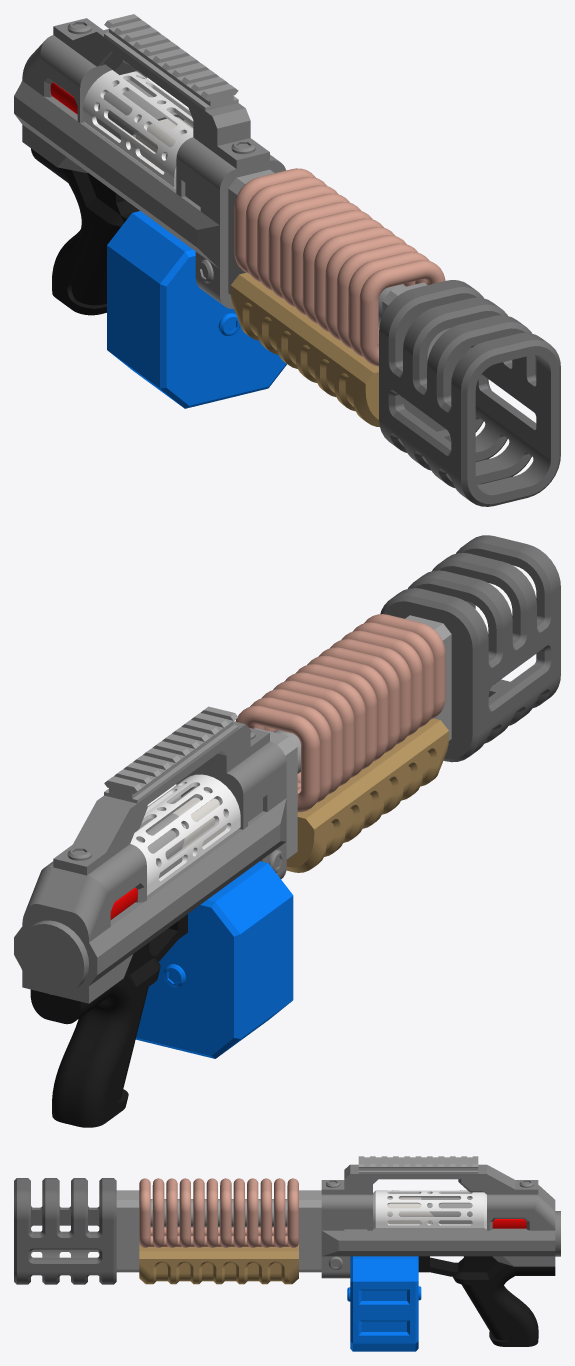
Rendered from PlasmaRifle V3.fbx.
3 renders of one model, top to bottom at view 1: azimuth 30°, elevation 25°; view 2: azimuth 150°, elevation 25°; view 3: azimuth 270°, elevation 25°, orthographic. The views are drawn at different scales.
Visible parts, largest first — view 1: Heat Sink, Coil, Magazine, Reciever, Handguard, Grip, Carry Handle, Heat Shield, Top RIS, Bolt Carrier, Aft Ring, Bolt; view 2: Reciever, Heat Sink, Coil, Magazine, Grip, Handguard, Carry Handle, Heat Shield, Top RIS, Aft Ring, Fore Ring, Bolt (+1 smaller); view 3: Reciever, Coil, Heat Sink, Magazine, Handguard, Grip, Heat Shield, Carry Handle, Top RIS, Fore Ring, Aft Ring, Barrel (+3 smaller).
Part boxes in pixels (<box>): Heat Sink: <box>379,280,560,506</box>; Coil: <box>234,168,445,366</box>; Magazine: <box>107,211,286,408</box>; Reciever: <box>14,35,285,308</box>; Handguard: <box>230,272,379,426</box>; Grip: <box>31,148,139,315</box>; Carry Handle: <box>53,18,269,168</box>; Heat Shield: <box>82,70,193,188</box>; Top RIS: <box>104,14,238,110</box>; Bolt Carrier: <box>96,80,184,139</box>; Aft Ring: <box>228,169,274,294</box>; Bolt: <box>136,117,193,171</box>; Reciever: <box>14,741,286,1003</box>; Heat Sink: <box>380,535,560,762</box>; Coil: <box>235,614,445,812</box>; Magazine: <box>135,861,293,1058</box>; Grip: <box>30,914,187,1127</box>; Handguard: <box>286,718,448,872</box>; Carry Handle: <box>53,721,269,875</box>; Heat Shield: <box>130,774,240,895</box>; Top RIS: <box>104,706,238,803</box>; Aft Ring: <box>255,728,297,859</box>; Fore Ring: <box>405,615,451,740</box>; Bolt: <box>172,786,226,860</box>; Reciever: <box>321,1185,560,1278</box>; Coil: <box>139,1178,298,1247</box>; Heat Sink: <box>14,1178,116,1284</box>; Magazine: <box>347,1256,421,1351</box>; Handguard: <box>139,1243,298,1284</box>; Grip: <box>418,1256,555,1346</box>; Heat Shield: <box>373,1190,486,1229</box>; Carry Handle: <box>321,1164,538,1194</box>; Top RIS: <box>358,1156,478,1173</box>; Fore Ring: <box>116,1190,139,1272</box>; Aft Ring: <box>299,1190,321,1272</box>; Barrel: <box>150,1199,287,1227</box>.
Bounding box in the file's own units: 8 × 17.4 × 48.
